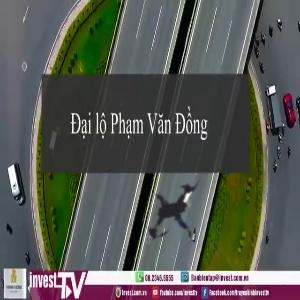drone: (112, 145, 246, 279)
